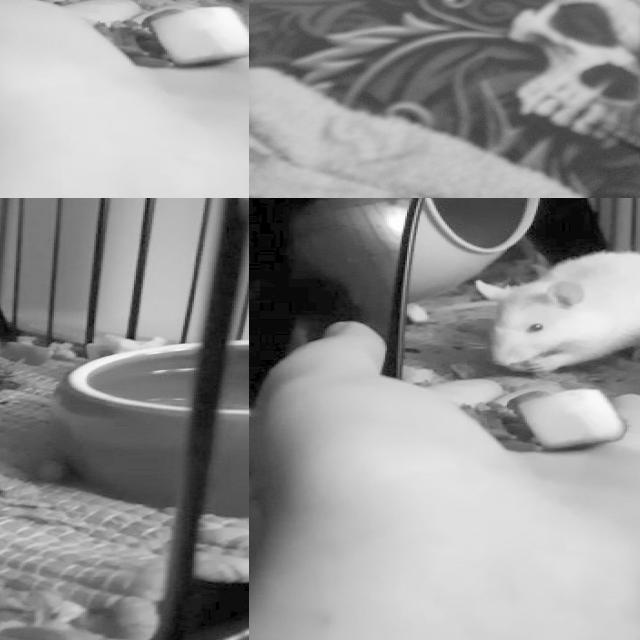rat: (470, 251, 640, 375)
